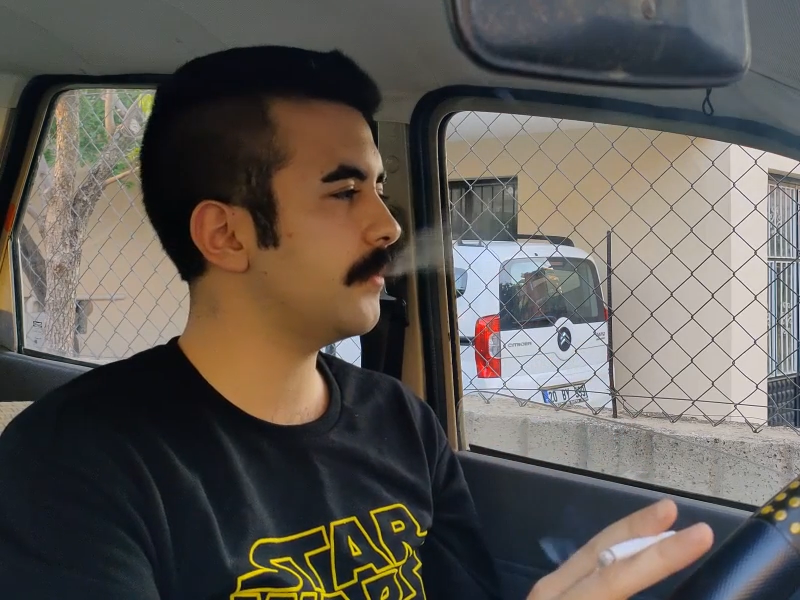sigara: (592, 526, 681, 571)
